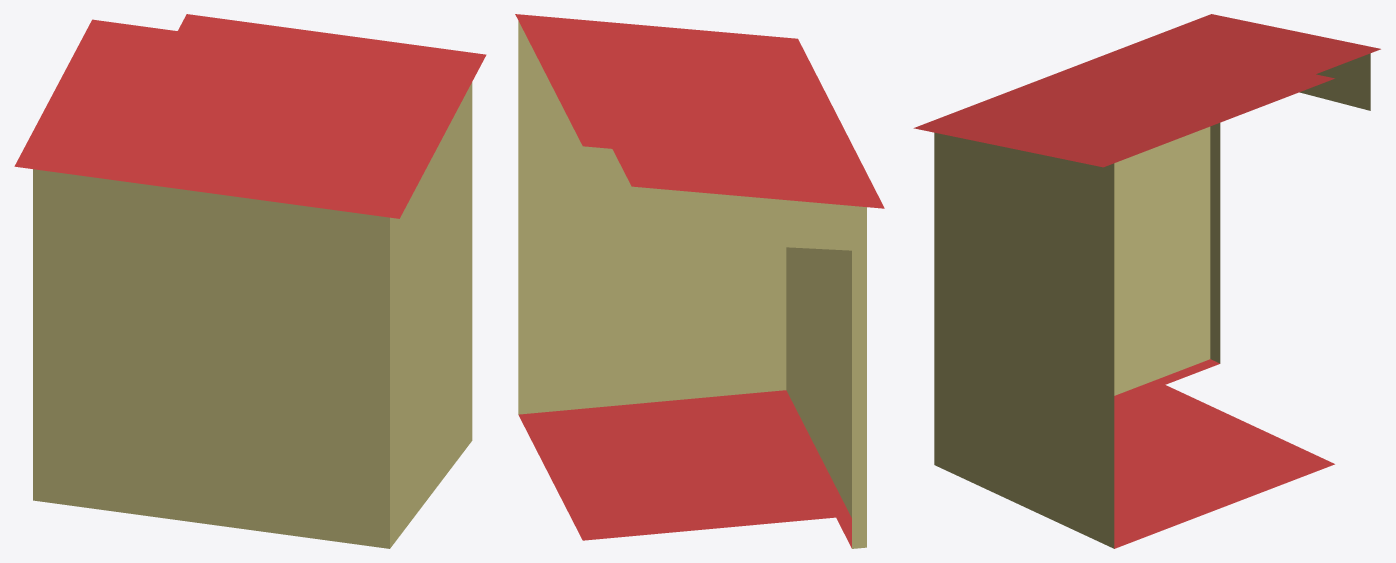
The picture shows the model from 3 angles, left to right: view 1: azimuth 30°, elevation 25°; view 2: azimuth 150°, elevation 25°; view 3: azimuth 270°, elevation 25°; orthographic projection. The views are drawn at different scales.
Bounding box in the file's own units: 8.09 × 7.89 × 7.17.
